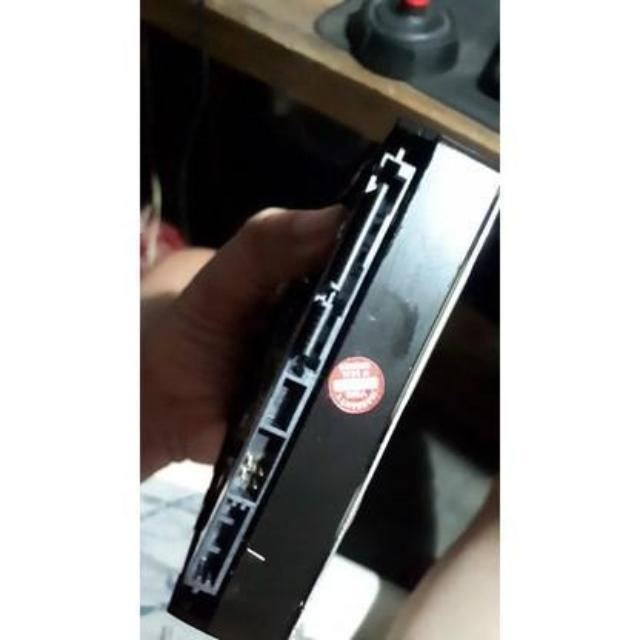DISK: (161, 114, 499, 640)
